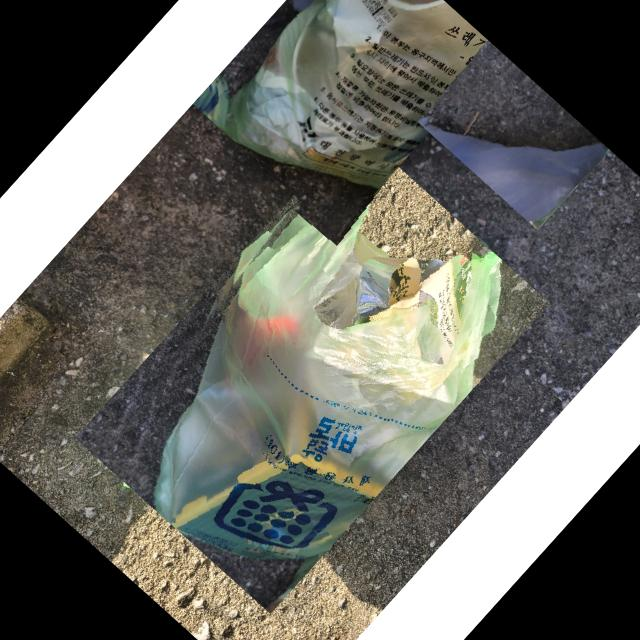general_trashbag: (150, 170, 499, 554), (223, 0, 500, 188), (421, 122, 604, 220)
